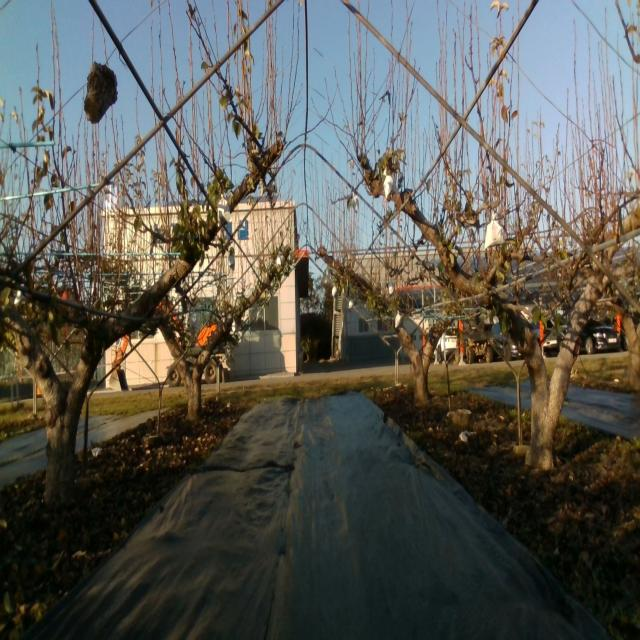pearbags: (484, 213, 504, 249), (218, 193, 232, 230), (383, 171, 398, 200)
